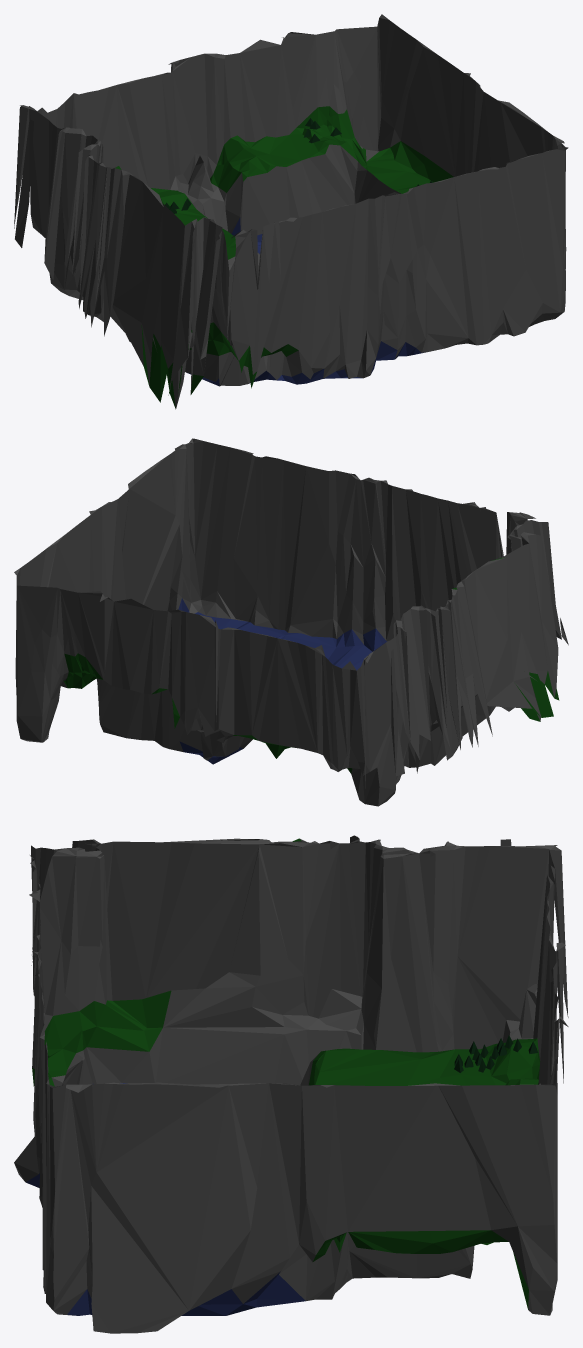
File: MOUNTAIN_ROOM.FBX
The picture shows the model from 3 angles, top to bottom: view 1: azimuth 30°, elevation 25°; view 2: azimuth 150°, elevation 25°; view 3: azimuth 270°, elevation 25°; orthographic projection. The views are drawn at different scales.
Visible parts, largest first — view 1: Object002, Layer 02, Object001; view 2: Object002, Object001, Layer 02; view 3: Object002, Layer 02, Object001.
Boxes of the visible parts, x1,y1,x2,y2 form: Object002: (14,14,568,408); Layer 02: (115,106,453,409); Object001: (187,217,425,386); Object002: (14,438,568,806); Object001: (178,598,386,764); Layer 02: (63,557,559,773); Object002: (14,835,568,1333); Layer 02: (32,838,540,1309); Object001: (26,1083,305,1315).
Bounding box in the file's own units: 3621 × 1628 × 3157.
